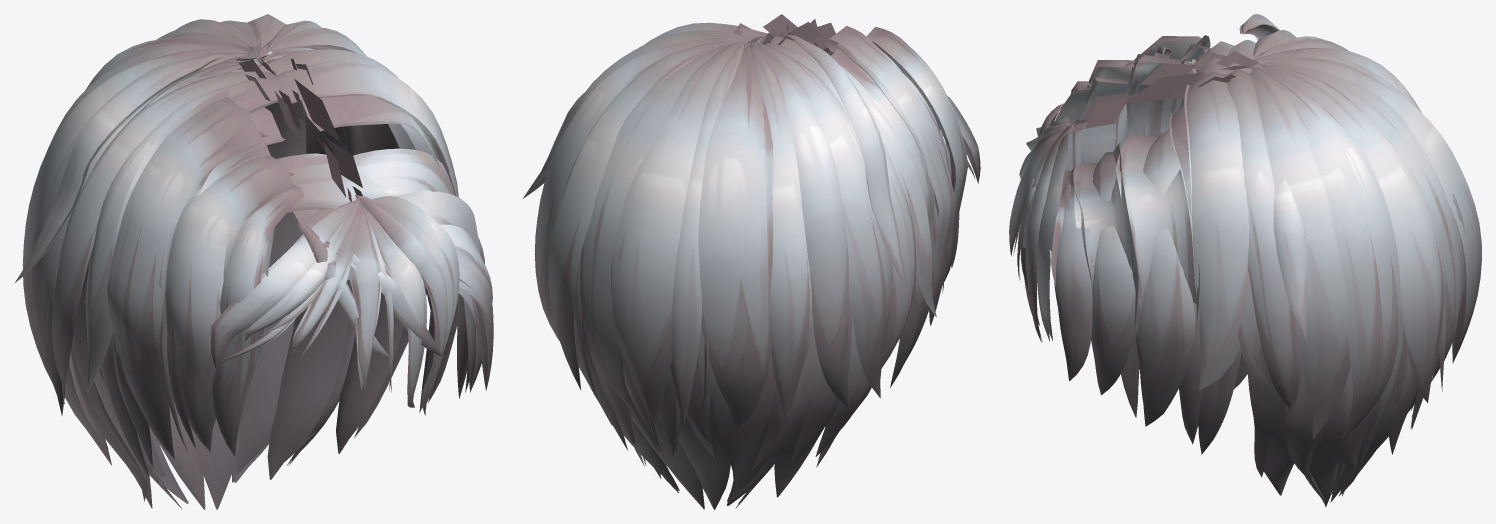
The model's file is vroid_hair_c5.glb.
3 views of the same model, side by side, from view 1: azimuth 30°, elevation 25°; view 2: azimuth 150°, elevation 25°; view 3: azimuth 270°, elevation 25° (orthographic). The views are drawn at different scales.
Visible parts, largest first — view 1: hair; view 2: hair; view 3: hair.
Part boxes in pixels (x1,y1,x2,y2): hair: (14,14,493,509); hair: (523,14,980,509); hair: (1009,14,1481,506).
Bounding box in the file's own units: 0.2086 × 0.2336 × 0.2212.
Materials: 2 (2 with a texture image).
